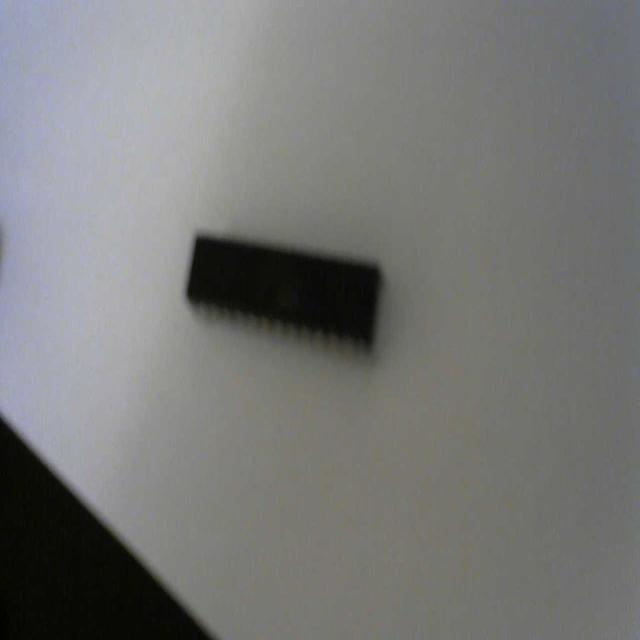atmega: (183, 225, 385, 359)
